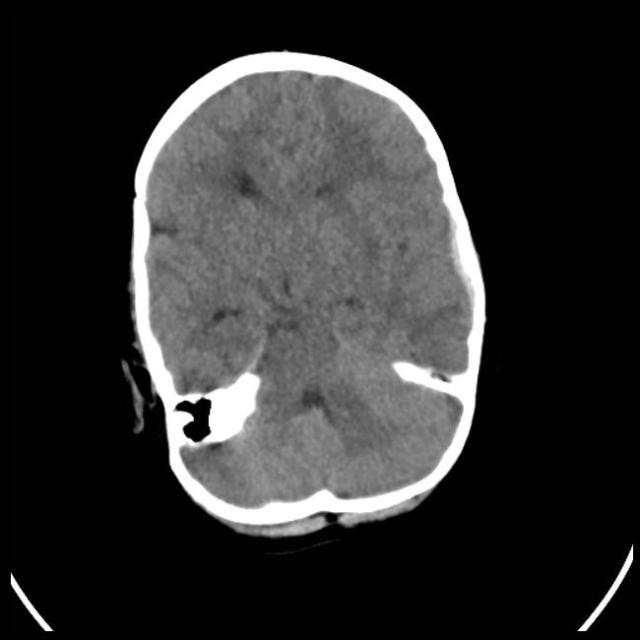lesion: (430, 192, 490, 328)
